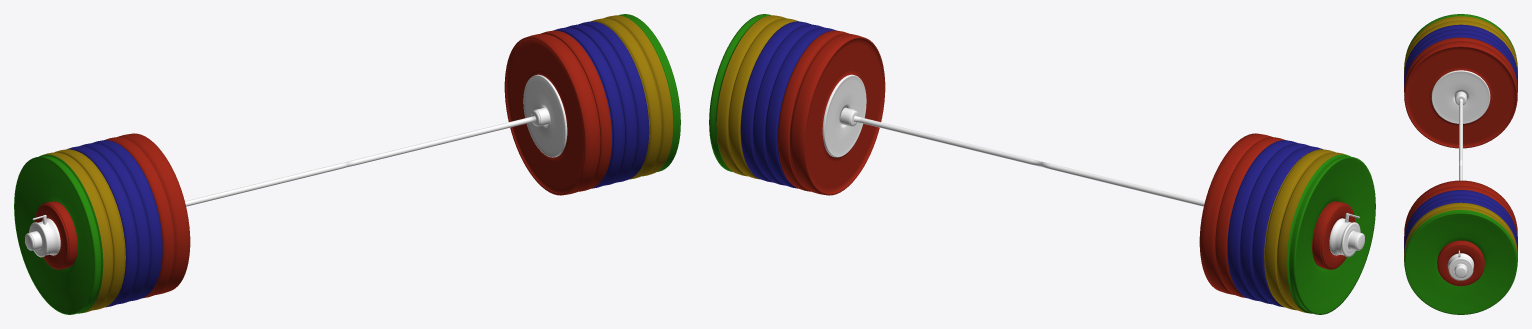
Rendered from barbell blendered.dae.
3 views of the same model, side by side, from view 1: azimuth 30°, elevation 25°; view 2: azimuth 150°, elevation 25°; view 3: azimuth 270°, elevation 25° (orthographic). The views are drawn at different scales.
Parts seen in each view (by area): view 1: Цилиндр_Цилиндр_001_kpacHbIu, Цилиндр_Цилиндр_001_CuHu, Цилиндр_Цилиндр_001_green, Цилиндр_Цилиндр_001_Yellow, Цилиндр_Цилиндр_001_6leck; view 2: Цилиндр_Цилиндр_001_kpacHbIu, Цилиндр_Цилиндр_001_CuHu, Цилиндр_Цилиндр_001_green, Цилиндр_Цилиндр_001_Yellow, Цилиндр_Цилиндр_001_6leck; view 3: Цилиндр_Цилиндр_001_kpacHbIu, Цилиндр_Цилиндр_001_green, Цилиндр_Цилиндр_001_6leck, Цилиндр_Цилиндр_001_CuHu, Цилиндр_Цилиндр_001_Yellow.
Part boxes in pixels (x1,y1,x2,y2): Цилиндр_Цилиндр_001_kpacHbIu: [34, 30, 611, 297]; Цилиндр_Цилиндр_001_CuHu: [67, 21, 649, 307]; Цилиндр_Цилиндр_001_green: [14, 14, 680, 314]; Цилиндр_Цилиндр_001_Yellow: [44, 15, 673, 312]; Цилиндр_Цилиндр_001_6leck: [25, 74, 567, 257]; Цилиндр_Цилиндр_001_kpacHbIu: [778, 30, 1355, 297]; Цилиндр_Цилиндр_001_CuHu: [740, 21, 1322, 307]; Цилиндр_Цилиндр_001_green: [709, 14, 1375, 314]; Цилиндр_Цилиндр_001_Yellow: [716, 15, 1345, 312]; Цилиндр_Цилиндр_001_6leck: [822, 74, 1364, 257]; Цилиндр_Цилиндр_001_kpacHbIu: [1404, 37, 1517, 286]; Цилиндр_Цилиндр_001_green: [1404, 14, 1517, 314]; Цилиндр_Цилиндр_001_6leck: [1431, 70, 1490, 280]; Цилиндр_Цилиндр_001_CuHu: [1404, 24, 1517, 252]; Цилиндр_Цилиндр_001_Yellow: [1404, 16, 1517, 261].
Bounding box in the file's own units: 2.44 × 0.5424 × 0.5424.
